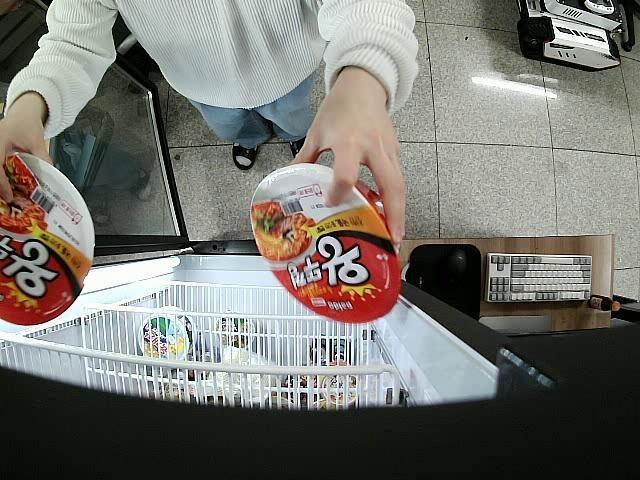10_wangTtukkeong: (245, 160, 397, 322), (0, 144, 94, 326)
